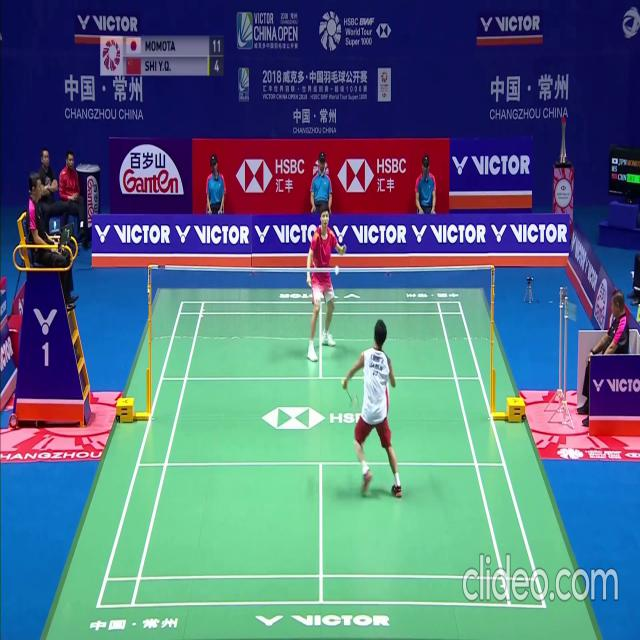Shuttlecock: (334, 269, 339, 276)
